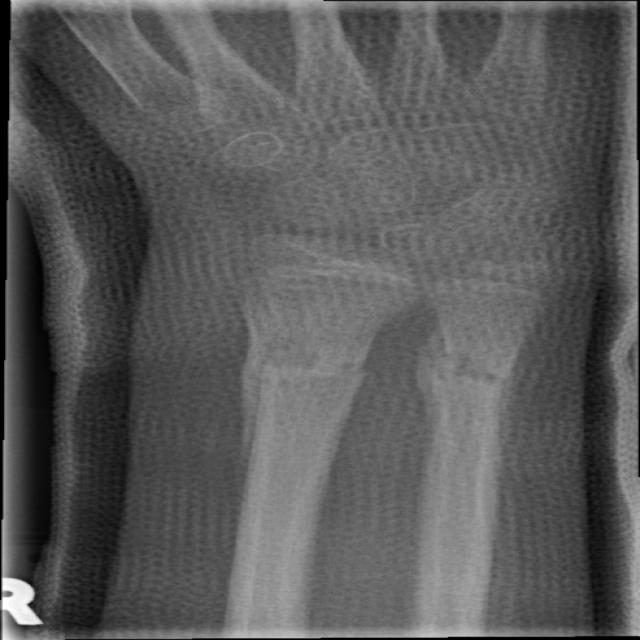radius fracture: (206, 302, 380, 479)
ulna fracture: (416, 325, 549, 458)
